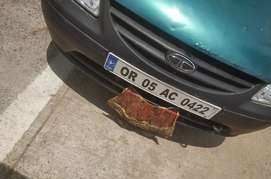OR05AC0422: (103, 51, 222, 120)
